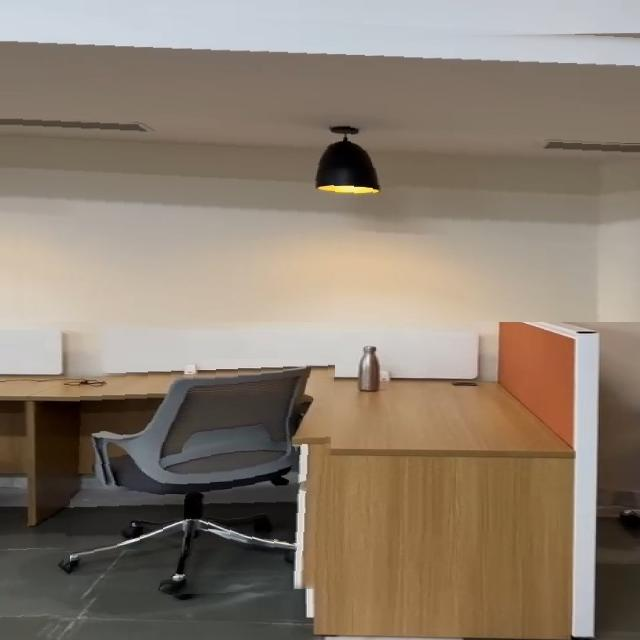floor: (0, 518, 68, 640)
moving_object: (70, 359, 336, 600)
wall: (6, 5, 640, 322)
